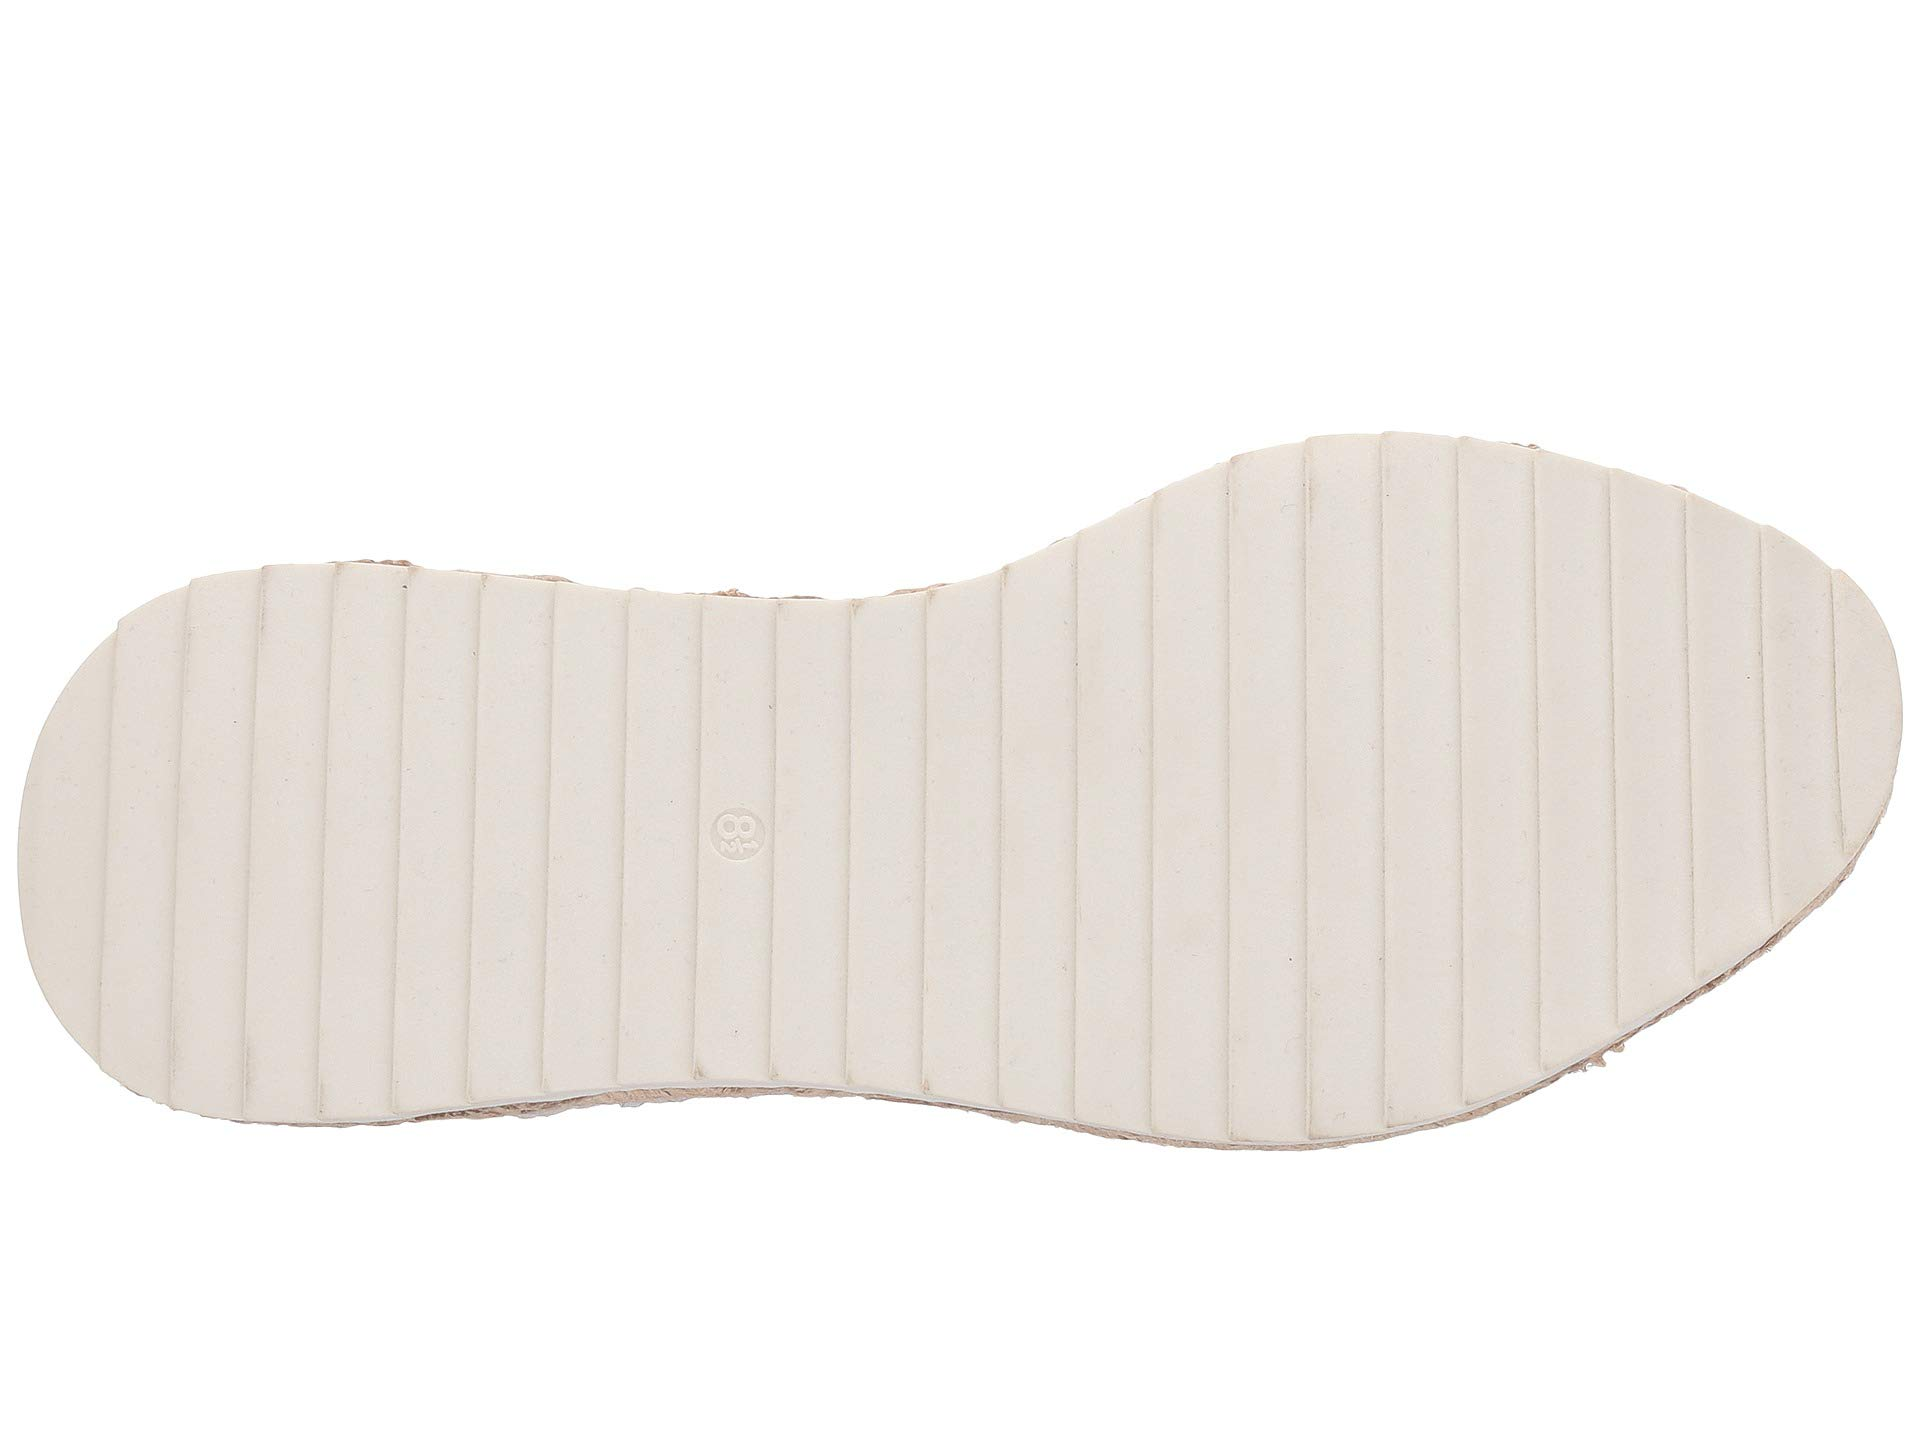circle: (525, 585, 824, 1104)
line: (86, 659, 712, 1007)
quad: (1247, 431, 1489, 1139), (525, 585, 824, 1104), (1016, 455, 1241, 1137), (246, 564, 505, 1141), (1519, 439, 1692, 1071), (841, 569, 1008, 1137), (169, 560, 265, 1131), (1754, 510, 1835, 895)
text: (525, 585, 824, 1104)
